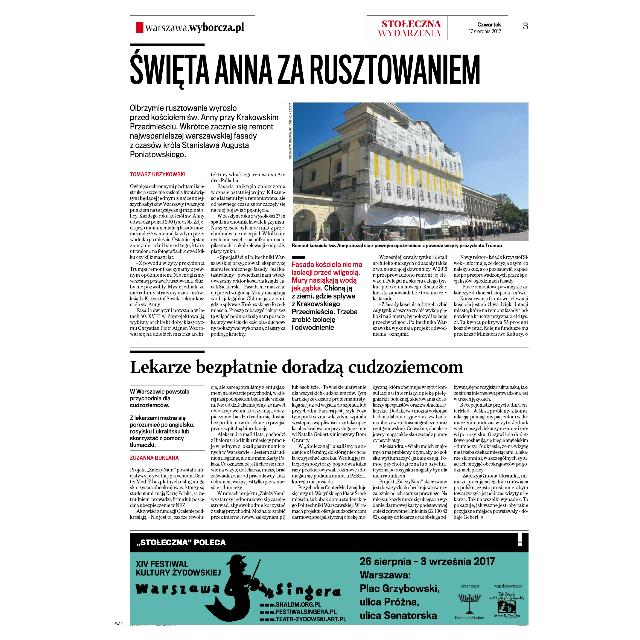article: (128, 48, 534, 342), (126, 357, 534, 528)
